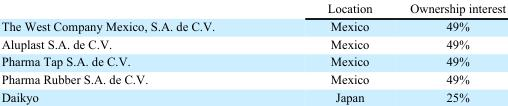table: (0, 0, 504, 103)
table column: (0, 0, 270, 103), (270, 0, 390, 103), (390, 0, 504, 103)
table column header: (0, 0, 504, 16)
table row: (0, 16, 504, 34), (0, 34, 504, 52), (0, 69, 504, 87), (0, 52, 504, 69), (0, 0, 504, 16), (0, 87, 504, 103)
